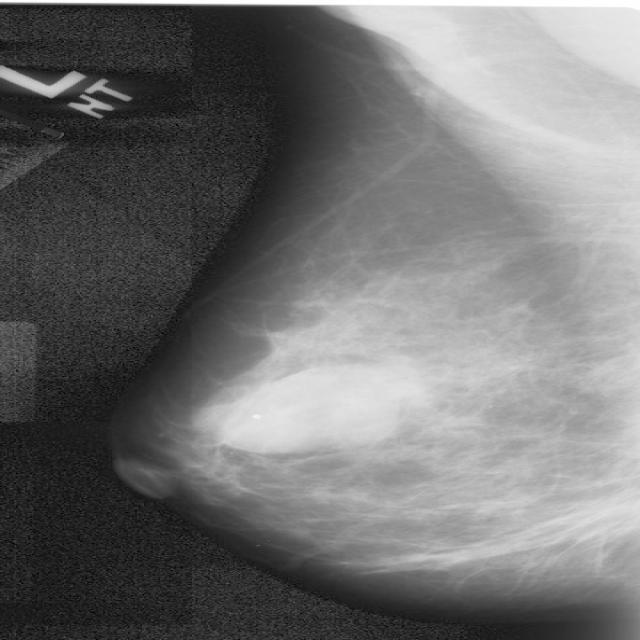tumour: (222, 363, 402, 449)
